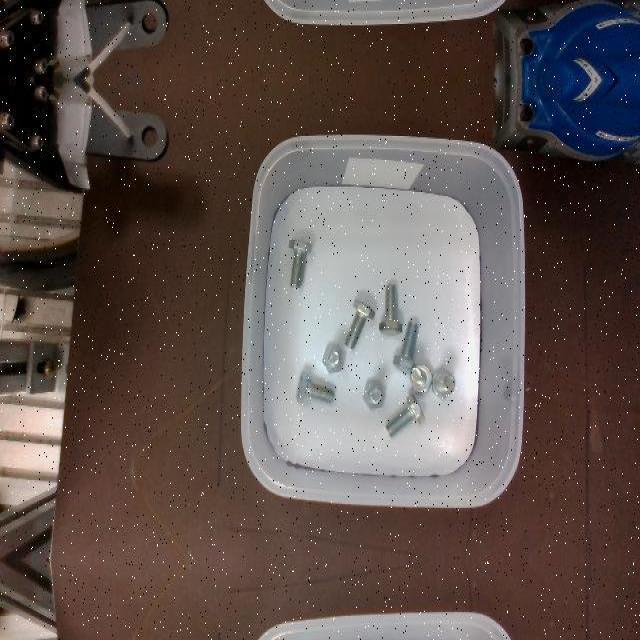screw: (385, 391, 426, 437), (346, 297, 375, 347), (393, 321, 419, 373), (295, 371, 333, 405), (378, 284, 402, 336), (289, 238, 312, 288), (362, 377, 386, 411), (432, 366, 456, 398), (322, 342, 347, 372), (409, 365, 432, 393)
